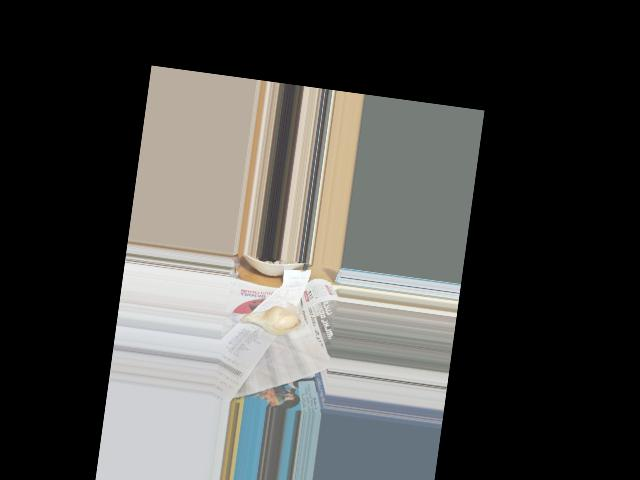onion: (240, 301, 300, 339)
